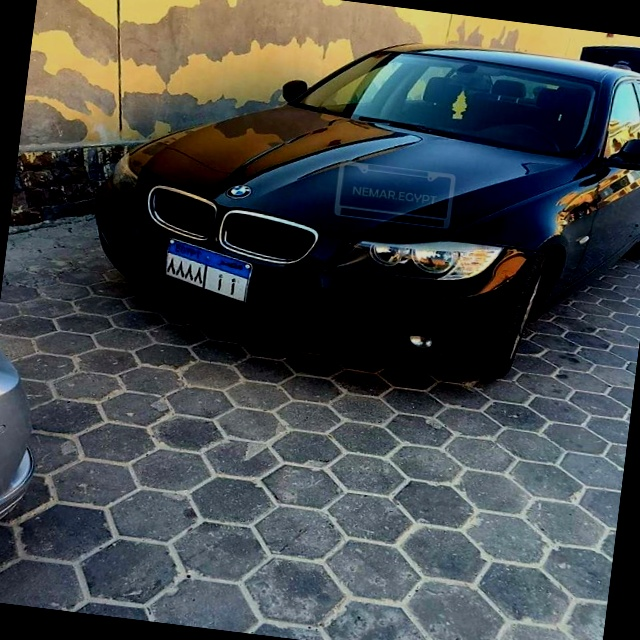License Plate: (154, 234, 257, 306)
